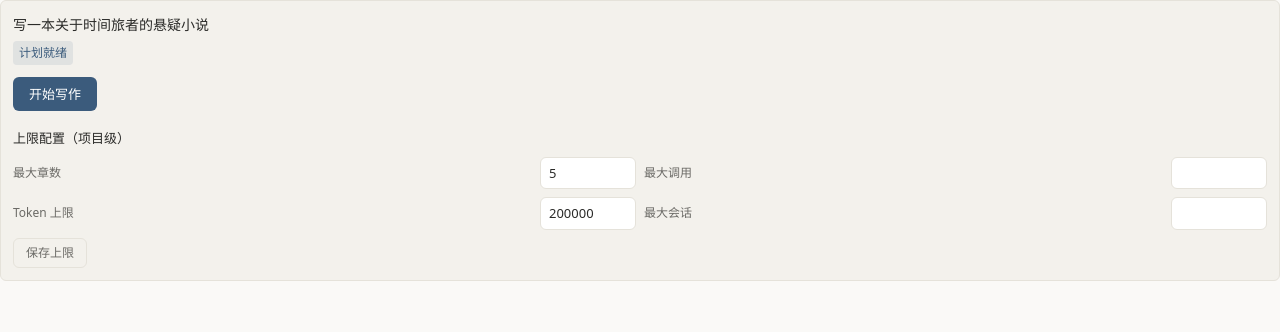
BookPlannerPanel — 阶段2 上限配置 + 409 安全阀文案（spec §5.2） › startRun 409 安全阀 → 完成态显示 book-start-error「该章已有内容，拒绝重跑」
This screenshot has width=1280, height=332.
Click the button with test id "book-start-run" at [55, 94], box [13, 77, 97, 111]
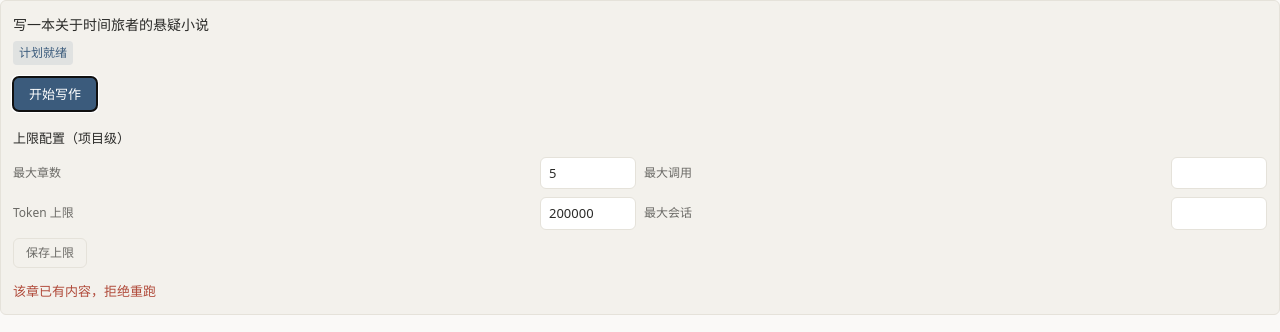
Result: the text with test id "book-start-error" reads "该章已有内容，拒绝重跑" at [13, 282, 156, 300]
